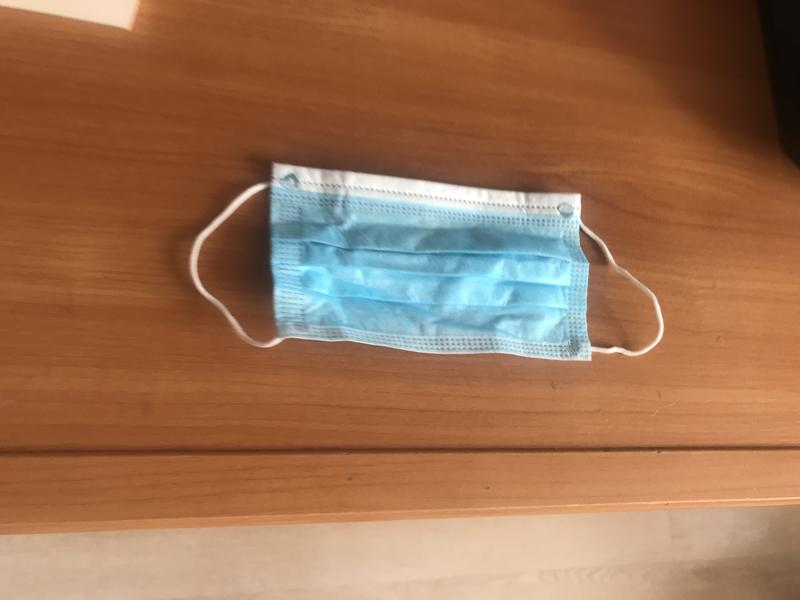medical_mask: (188, 162, 666, 361)
